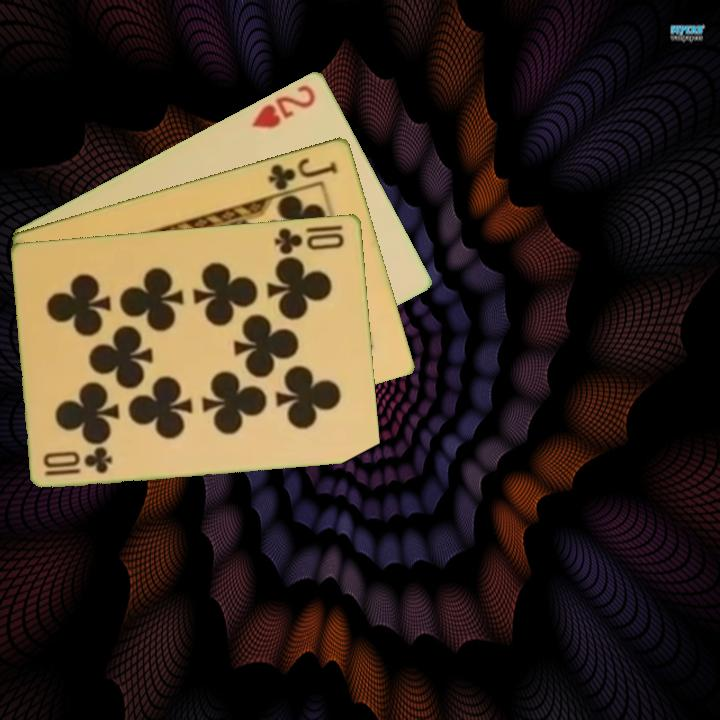10c: (271, 223, 347, 257), (40, 445, 116, 479)
2h: (248, 80, 319, 131)
Jc: (265, 154, 341, 193)
